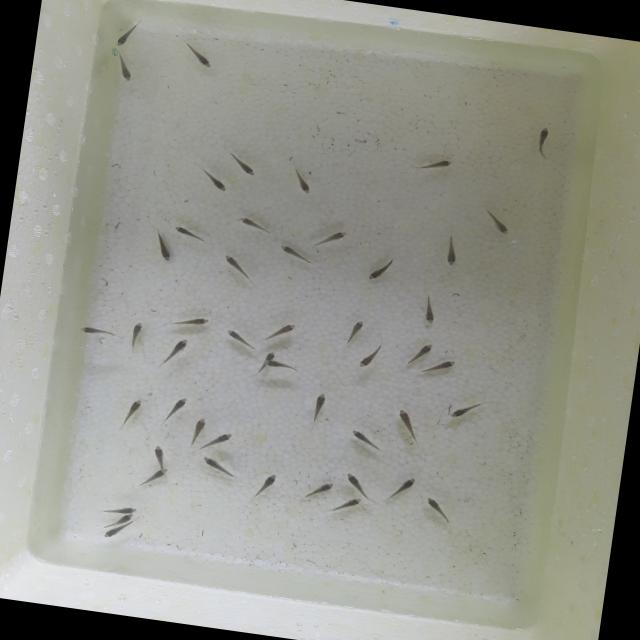fingerling: (144, 222, 176, 263), (343, 427, 385, 457), (220, 149, 260, 178), (394, 411, 424, 449), (409, 155, 454, 179), (530, 124, 556, 164), (218, 248, 251, 277), (164, 332, 194, 363), (438, 236, 466, 268), (272, 243, 314, 264), (403, 338, 431, 369), (198, 428, 232, 453), (368, 252, 396, 282), (180, 40, 212, 66), (95, 522, 130, 544), (197, 168, 229, 192), (424, 358, 456, 382), (355, 344, 382, 372), (310, 224, 344, 246), (304, 478, 334, 502), (389, 473, 417, 498), (142, 461, 170, 486), (111, 54, 136, 82), (423, 495, 452, 519), (487, 212, 516, 236), (226, 329, 256, 352), (335, 493, 367, 514), (198, 452, 230, 473), (263, 322, 293, 344), (169, 394, 192, 422), (450, 399, 479, 421), (98, 502, 140, 517), (75, 324, 117, 339), (342, 472, 368, 496), (189, 414, 207, 448), (126, 396, 146, 426), (124, 320, 144, 350), (253, 472, 276, 498), (146, 441, 169, 467), (291, 166, 313, 193), (238, 212, 270, 230), (310, 394, 330, 422), (344, 320, 364, 348), (420, 296, 437, 326), (262, 356, 294, 371), (174, 223, 202, 240), (116, 24, 137, 46), (255, 350, 272, 377), (176, 312, 206, 326), (118, 512, 133, 524)
